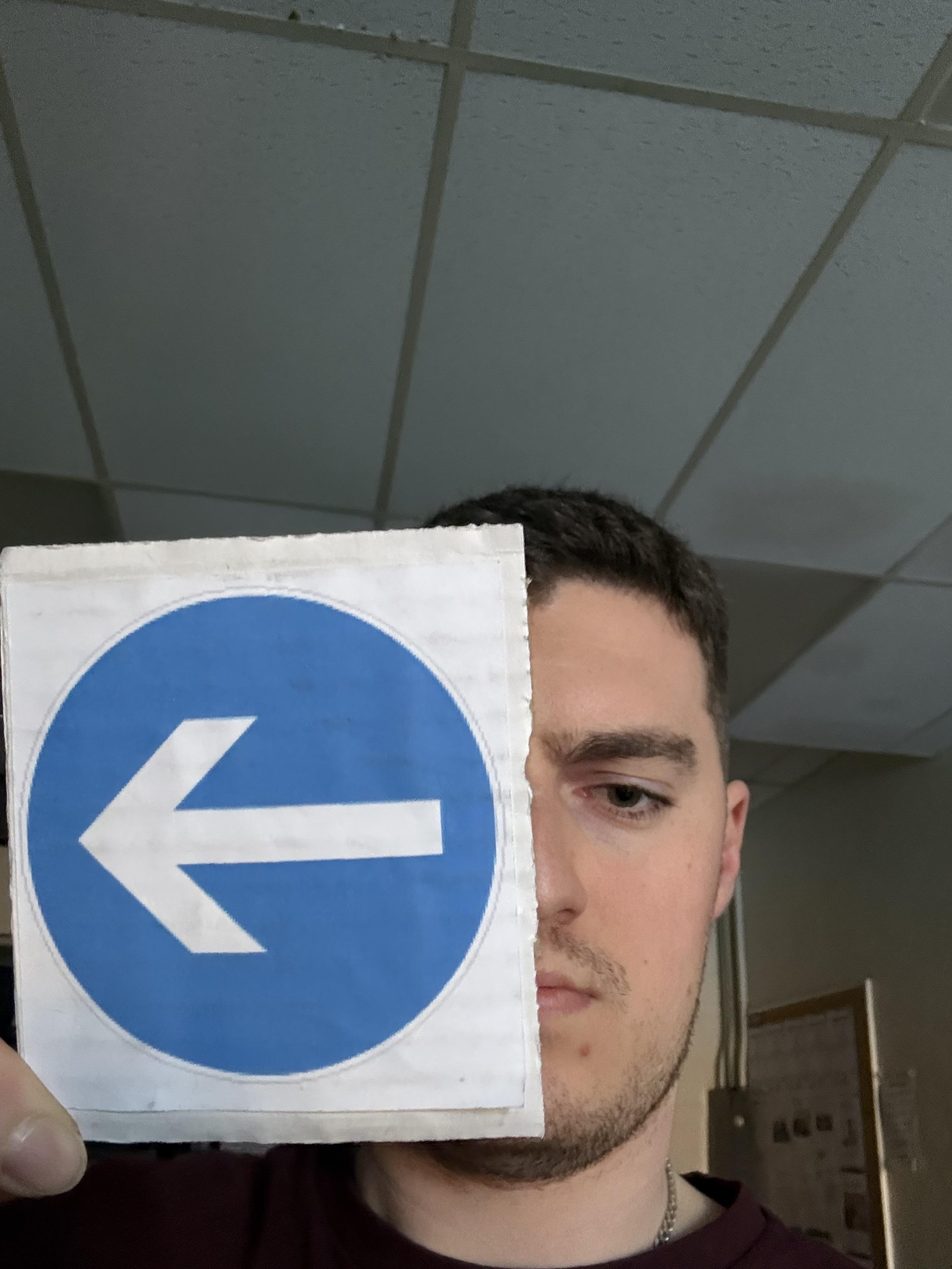Proceed Left: (0, 740, 401, 1269)
